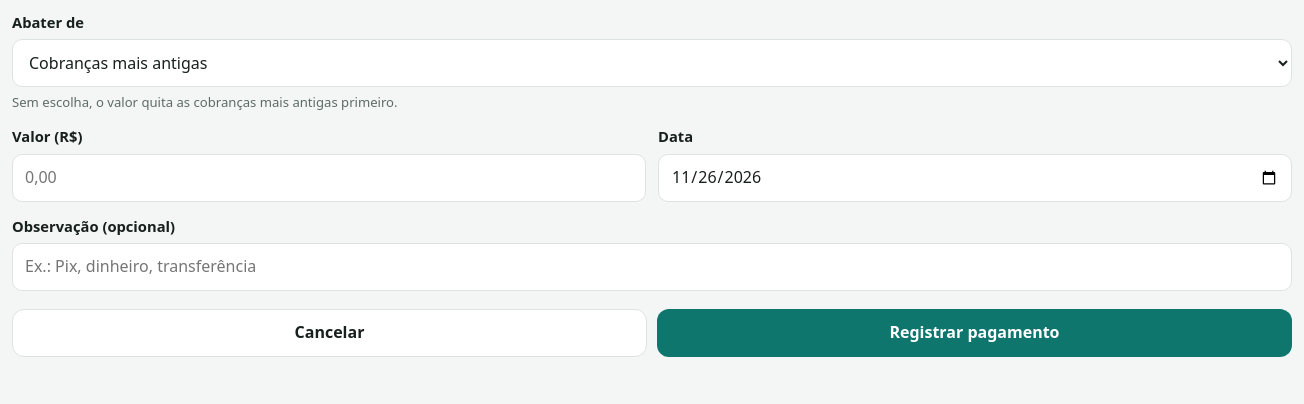
Test: PaymentForm › blocks an amount that is not a number
The width and height of the screenshot is (1304, 404).
In the field labelled "Valor (R$)": [329, 178] box [12,154,646,202], type "abc"
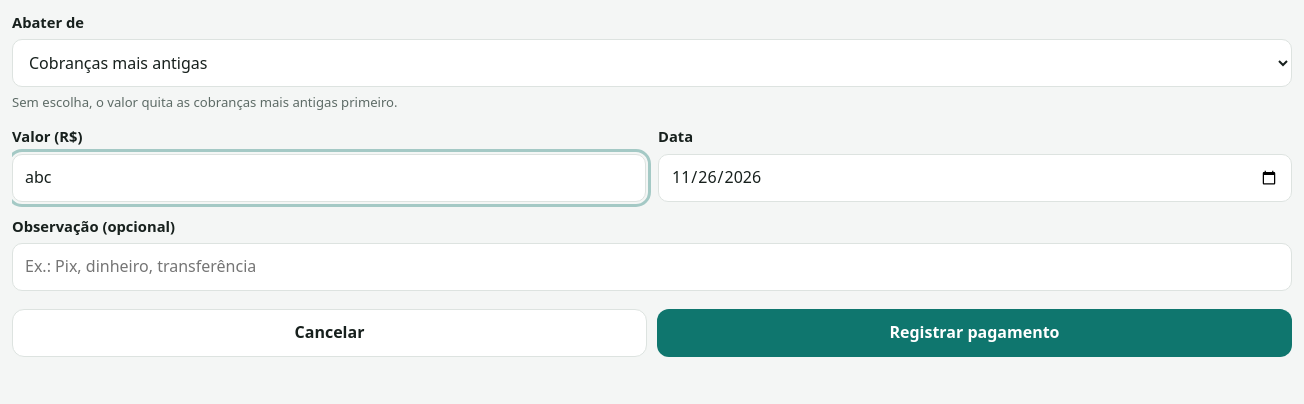
Click the button "Registrar pagamento": [974, 333] box [657,309,1292,357]
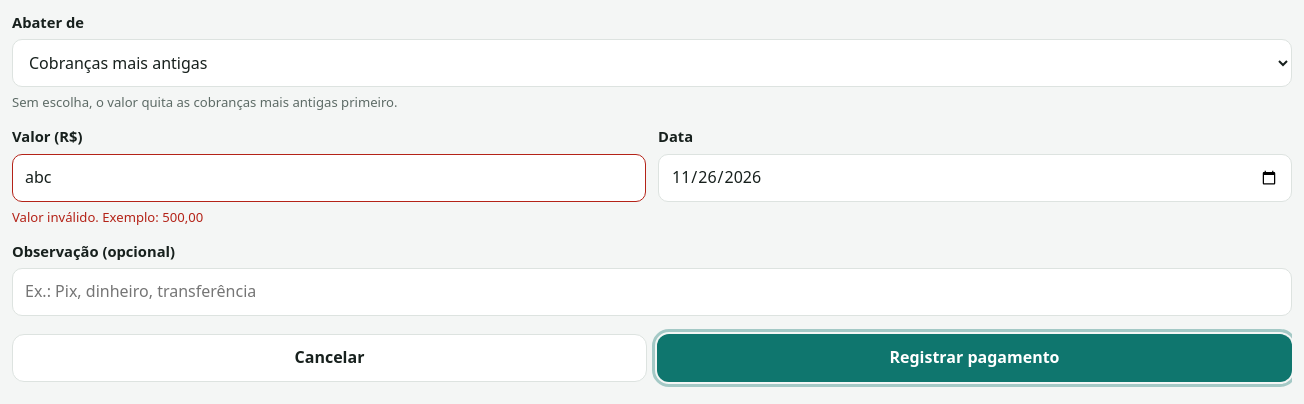
Result: the text "Valor inválido. Exemplo: 500,00" is shown at [12,208,203,226]
